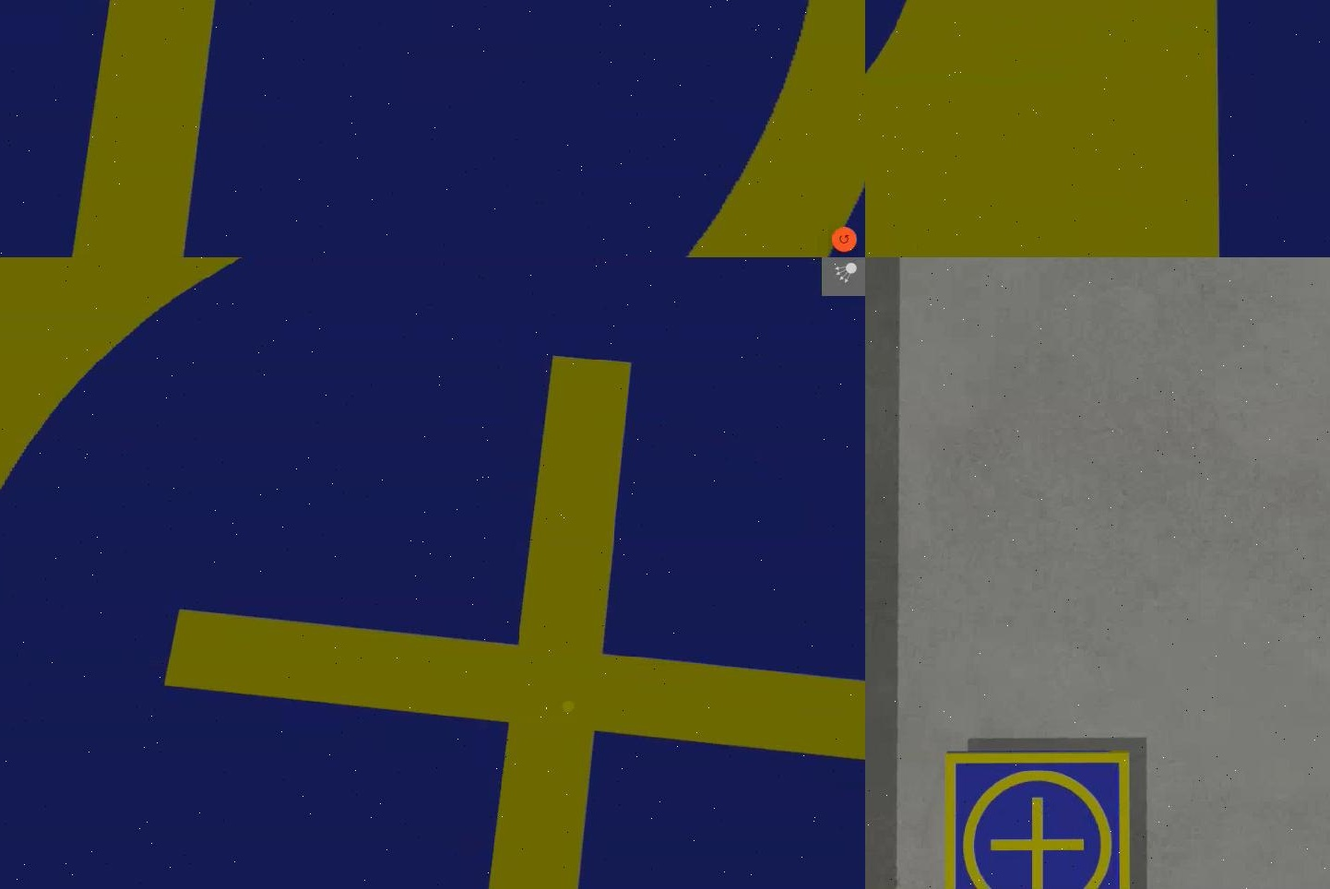large_base: (0, 258, 864, 889), (864, 1, 1328, 258)
small_base: (0, 1, 864, 258), (944, 750, 1130, 889)
